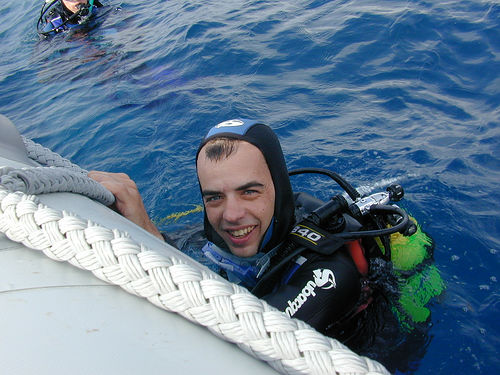without_mask: (192, 126, 292, 261)
